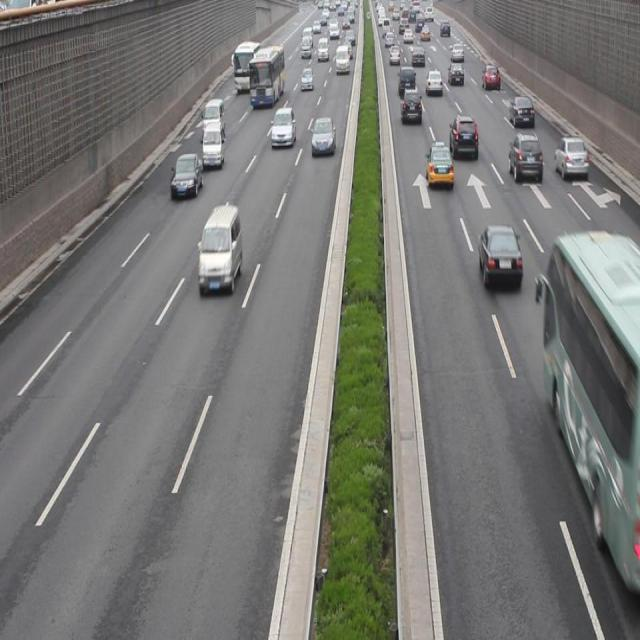car: (479, 223, 520, 287), (508, 133, 542, 180), (168, 152, 204, 196), (552, 137, 588, 181), (424, 138, 450, 188), (448, 117, 477, 158), (270, 109, 294, 149), (312, 115, 335, 155), (398, 86, 421, 124), (507, 94, 532, 126)
truck: (198, 205, 242, 289), (202, 124, 225, 172), (202, 100, 225, 142)
van: (544, 238, 640, 595)
